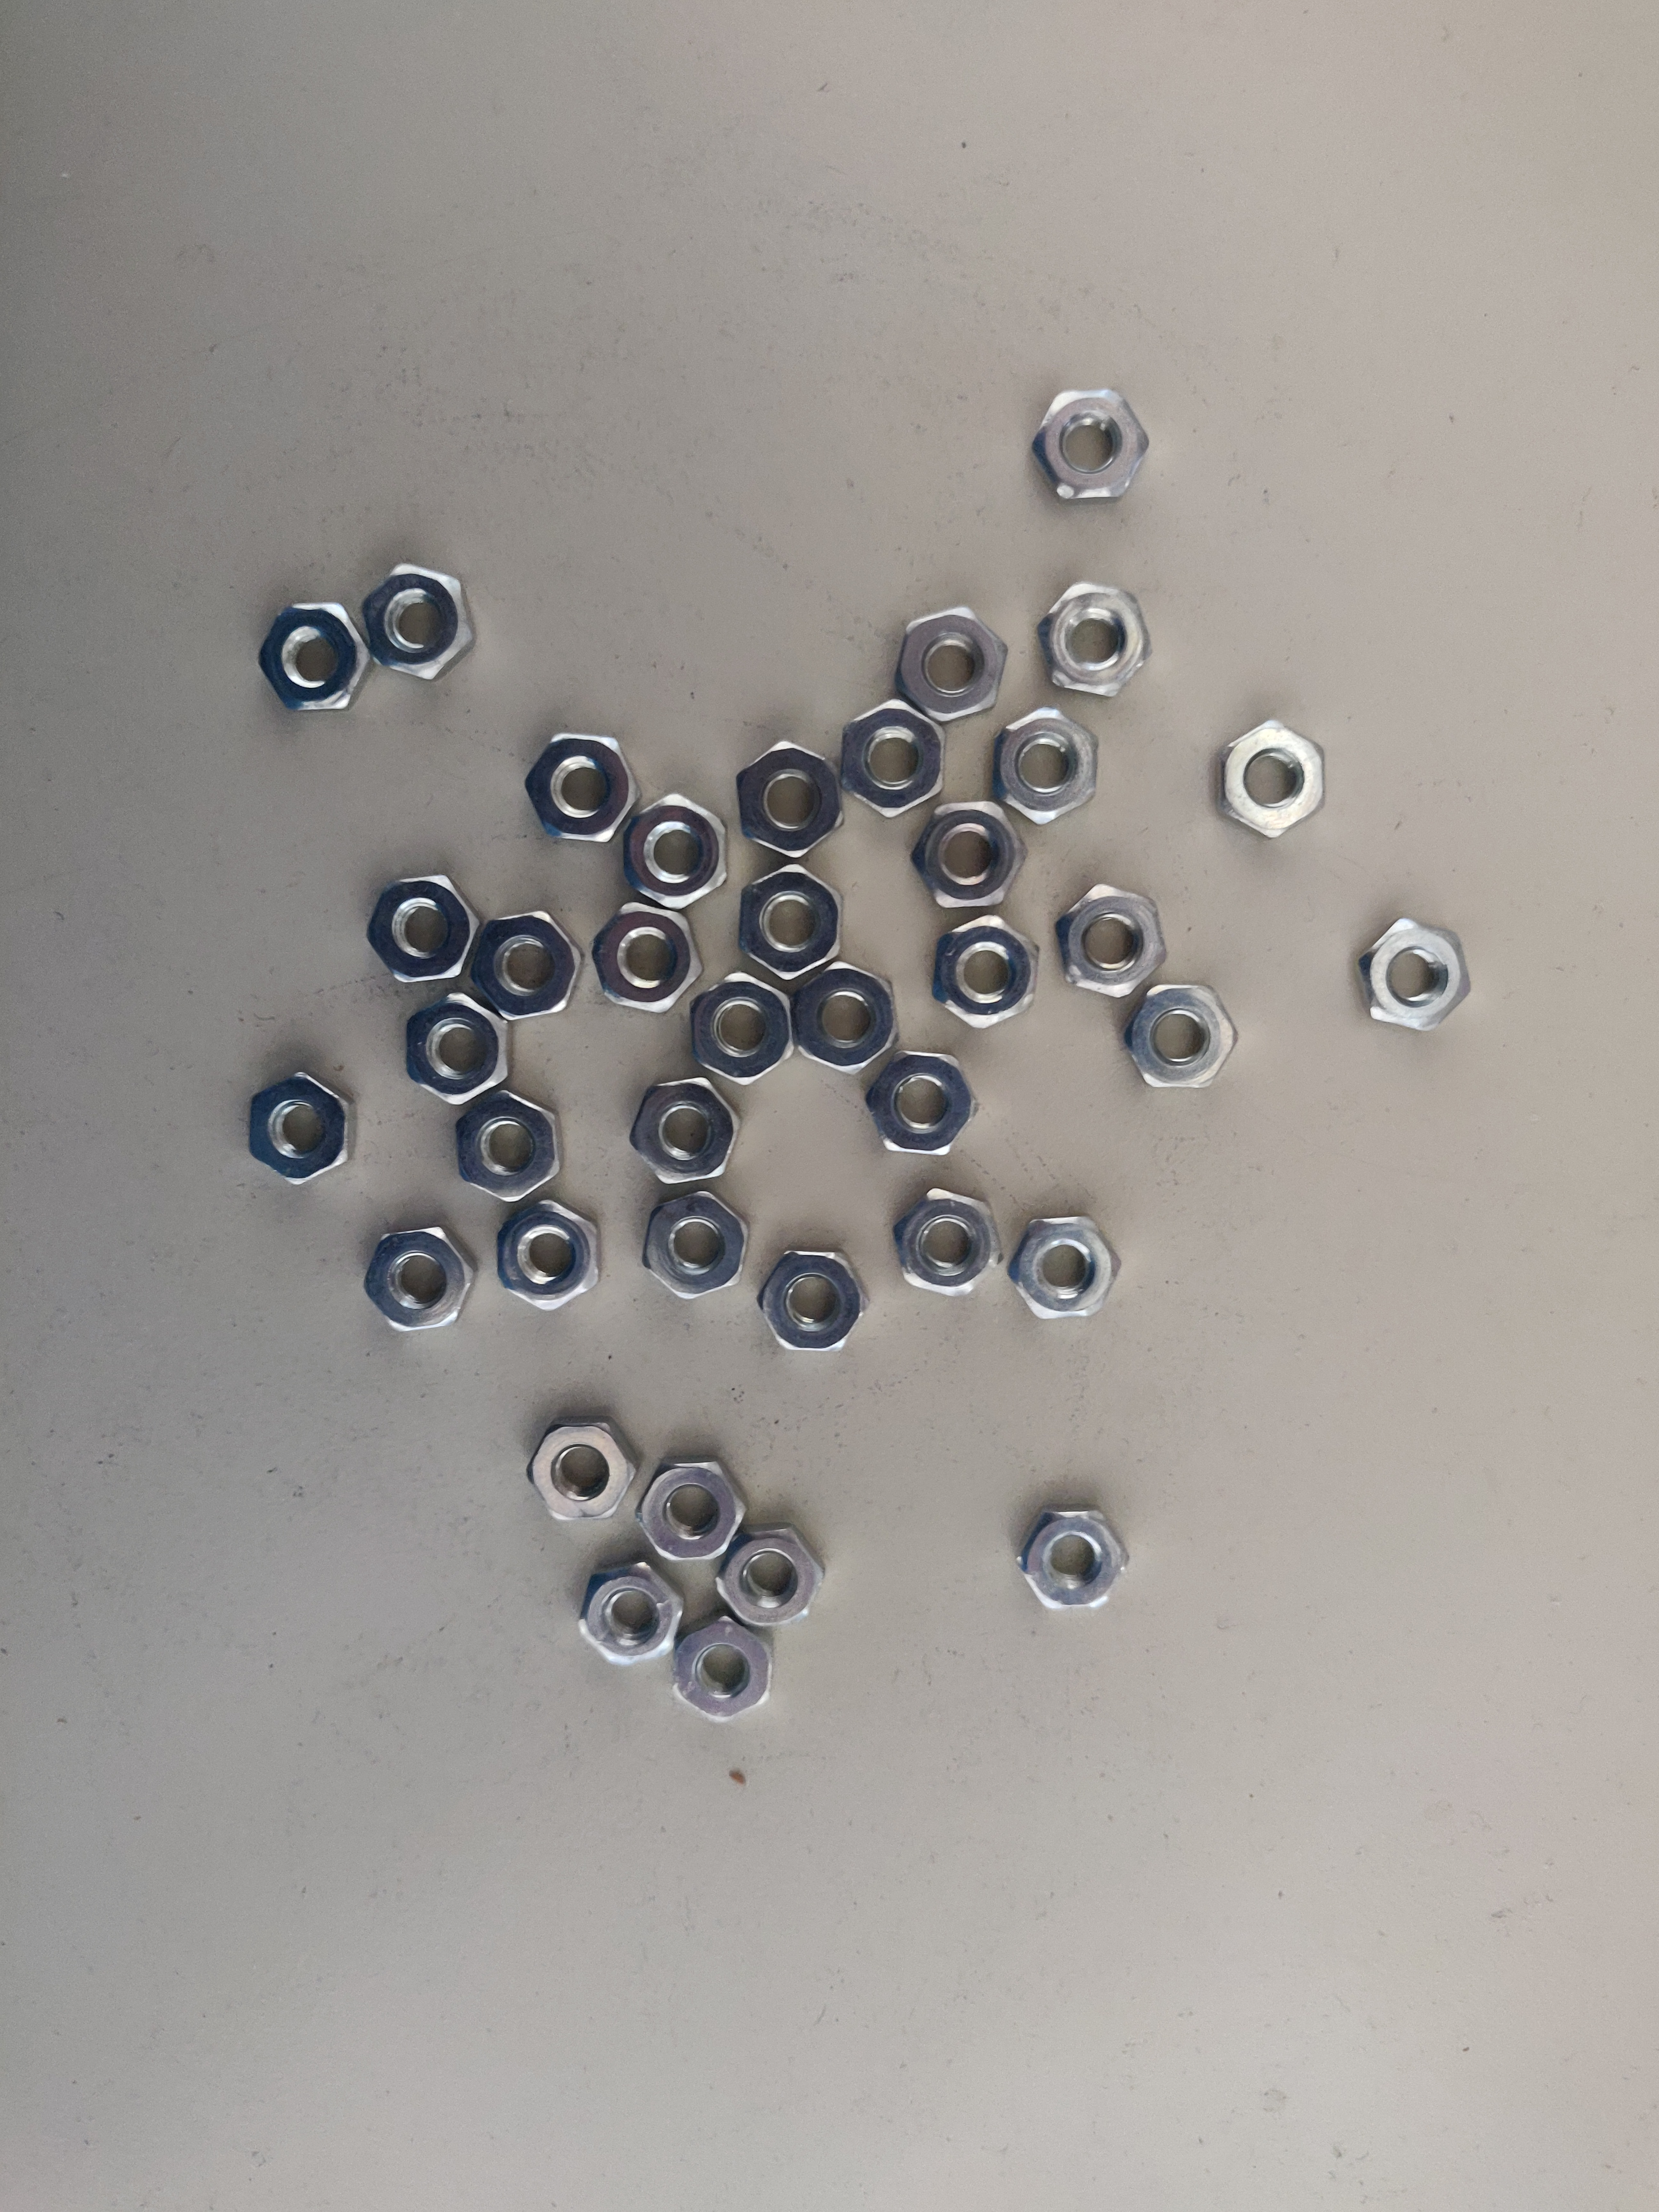nut: (361, 1217, 476, 1338), (1032, 387, 1148, 503), (253, 599, 369, 716), (354, 561, 471, 678), (525, 1413, 640, 1531), (587, 895, 699, 1015), (465, 907, 577, 1028), (1356, 914, 1467, 1033), (1124, 979, 1236, 1097), (927, 911, 1039, 1029), (619, 787, 730, 906), (403, 989, 514, 1108), (1216, 716, 1326, 836), (1053, 881, 1162, 1000), (913, 798, 1023, 916), (992, 711, 1101, 829), (734, 740, 843, 859), (237, 1066, 350, 1179), (519, 728, 633, 841), (897, 603, 1011, 716), (366, 874, 479, 986), (1037, 583, 1148, 697), (669, 1615, 779, 1726), (573, 1562, 683, 1674), (887, 1184, 997, 1296), (866, 1043, 976, 1155), (734, 862, 843, 974), (1018, 1505, 1127, 1615), (718, 1521, 828, 1630), (638, 1463, 748, 1573), (1006, 1212, 1115, 1322), (758, 1245, 868, 1355), (640, 1191, 749, 1301), (488, 1200, 598, 1310), (455, 1089, 565, 1198), (629, 1075, 739, 1184), (687, 974, 796, 1083), (784, 961, 894, 1071)
